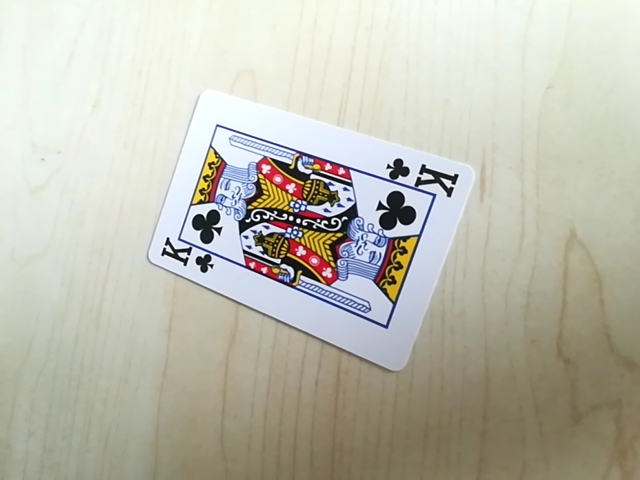mh k: (383, 157, 462, 191), (158, 241, 216, 275)
